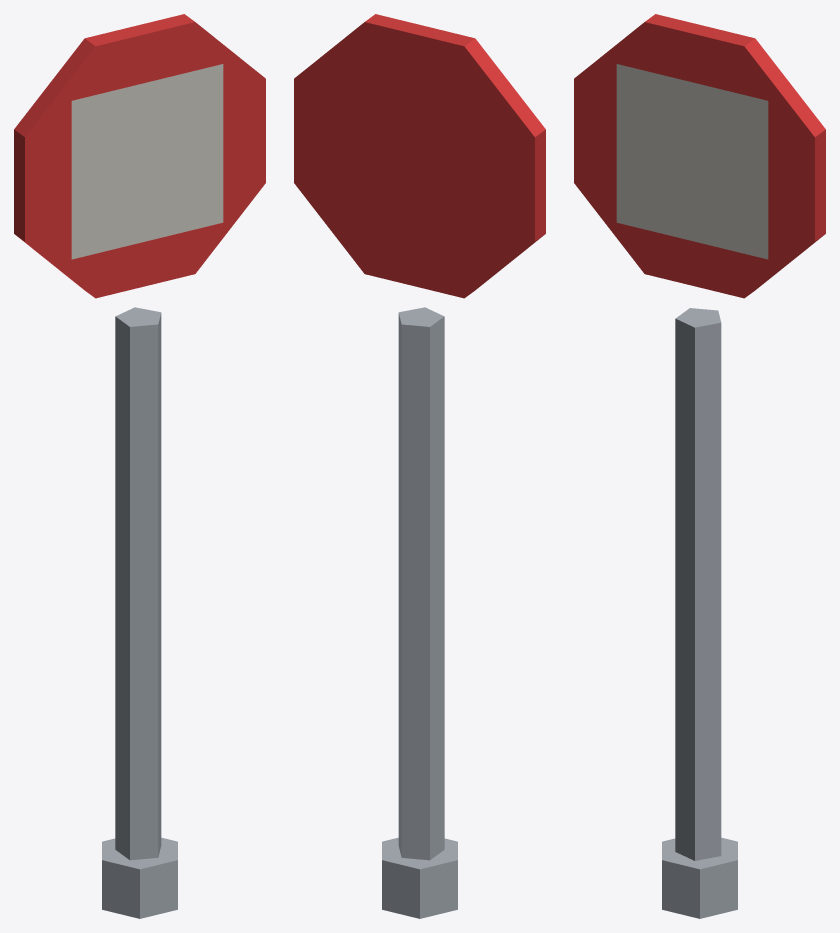
Rendered from stop_sign.glb.
3 views of the same model, side by side, from view 1: azimuth 30°, elevation 25°; view 2: azimuth 150°, elevation 25°; view 3: azimuth 330°, elevation 25° (orthographic).
Parts seen in each view (by area): view 1: stop_sign; view 2: stop_sign; view 3: stop_sign.
Part boxes in pixels (x1,y1,x2,y2): stop_sign: (14, 14, 265, 918); stop_sign: (294, 14, 545, 918); stop_sign: (574, 14, 825, 918).
Bounding box in the file's own units: 0.1016 × 0.3508 × 0.0277.
